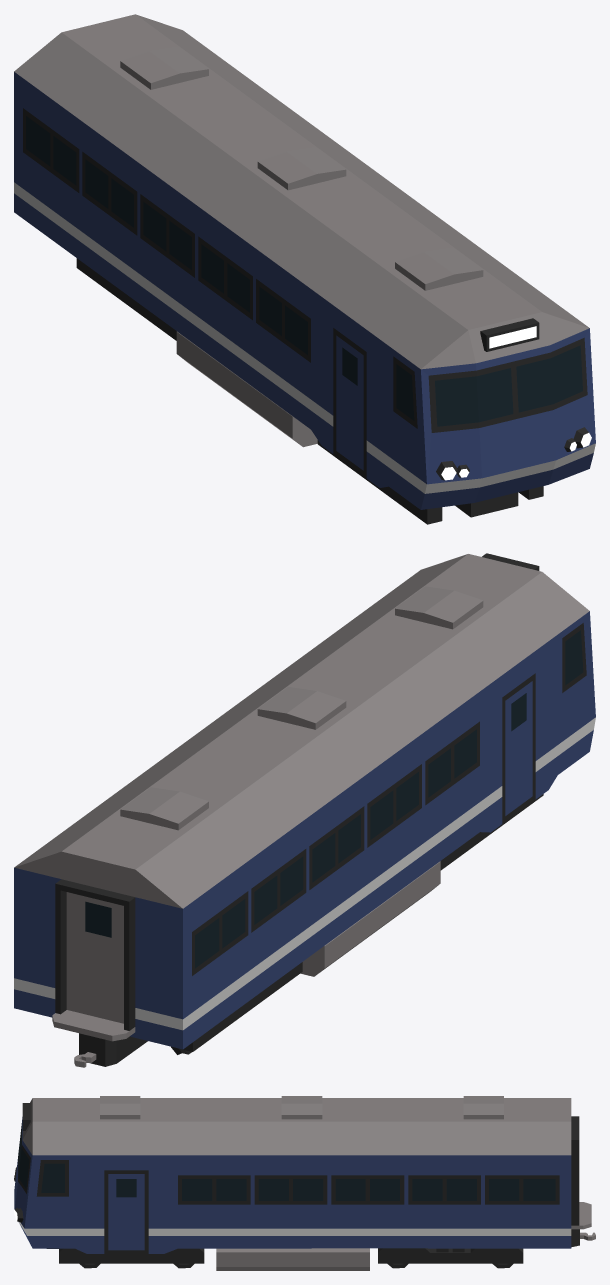
File: train-passenger.glb
3 views of the same model, one above another, from view 1: azimuth 30°, elevation 25°; view 2: azimuth 150°, elevation 25°; view 3: azimuth 270°, elevation 25° (orthographic). The views are drawn at different scales.
Parts seen in each view (by area): view 1: train-passenger-base, train-passenger-base-wheel-frame_F, train-passenger-base-wheel-frame_B; view 2: train-passenger-base, train-passenger-base-wheel-frame_B; view 3: train-passenger-base, train-passenger-base-wheel-frame_B, train-passenger-base-wheel-frame_F.
Boxes of the visible parts, box(x1,y1,x2,y2) form: train-passenger-base: box(14, 14, 595, 517); train-passenger-base-wheel-frame_F: box(317, 440, 543, 524); train-passenger-base-wheel-frame_B: box(76, 258, 176, 340); train-passenger-base: box(14, 553, 595, 1067); train-passenger-base-wheel-frame_B: box(178, 962, 302, 1051); train-passenger-base: box(14, 1096, 595, 1270); train-passenger-base-wheel-frame_B: box(378, 1248, 523, 1263); train-passenger-base-wheel-frame_F: box(59, 1248, 204, 1263).
Bounding box in the file's own units: 3.2 × 4.17 × 14.41.
Materials: 1 (1 with a texture image).
